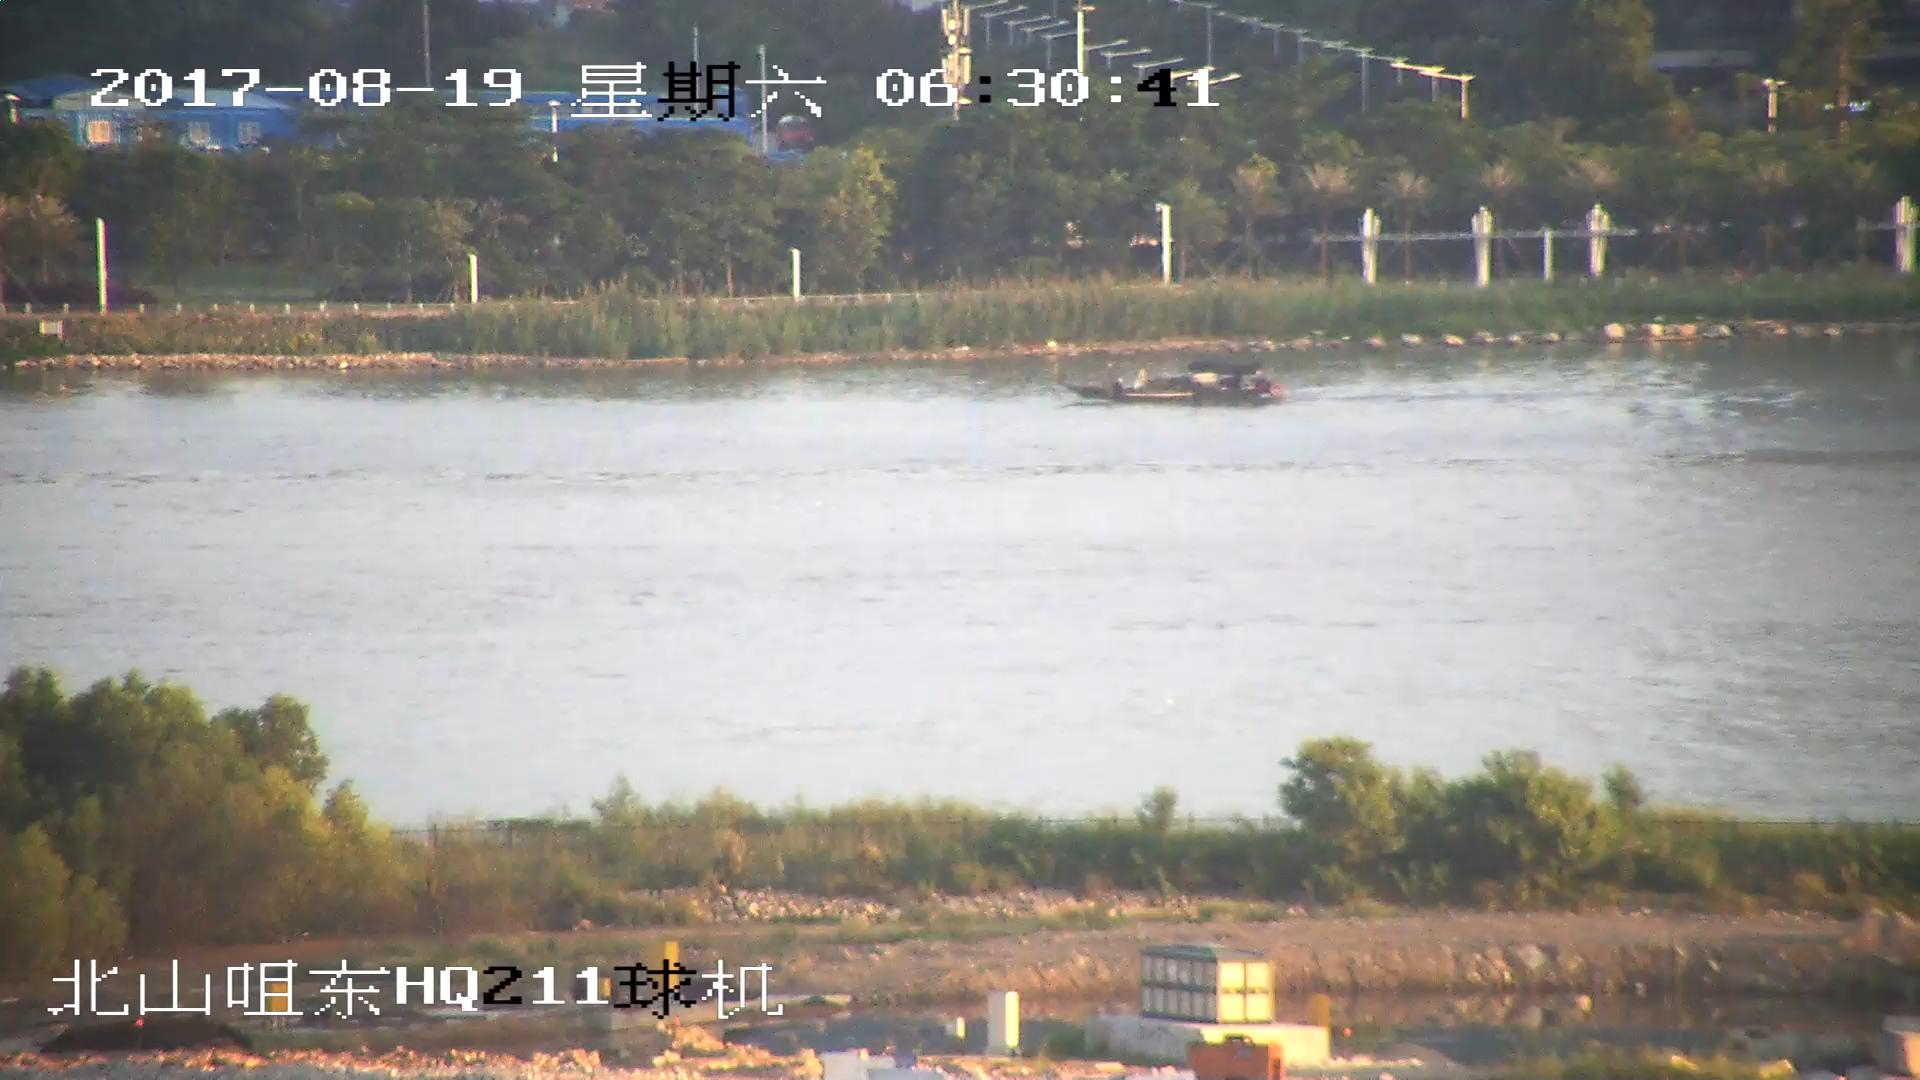fishing boat: (1065, 359, 1276, 406)
